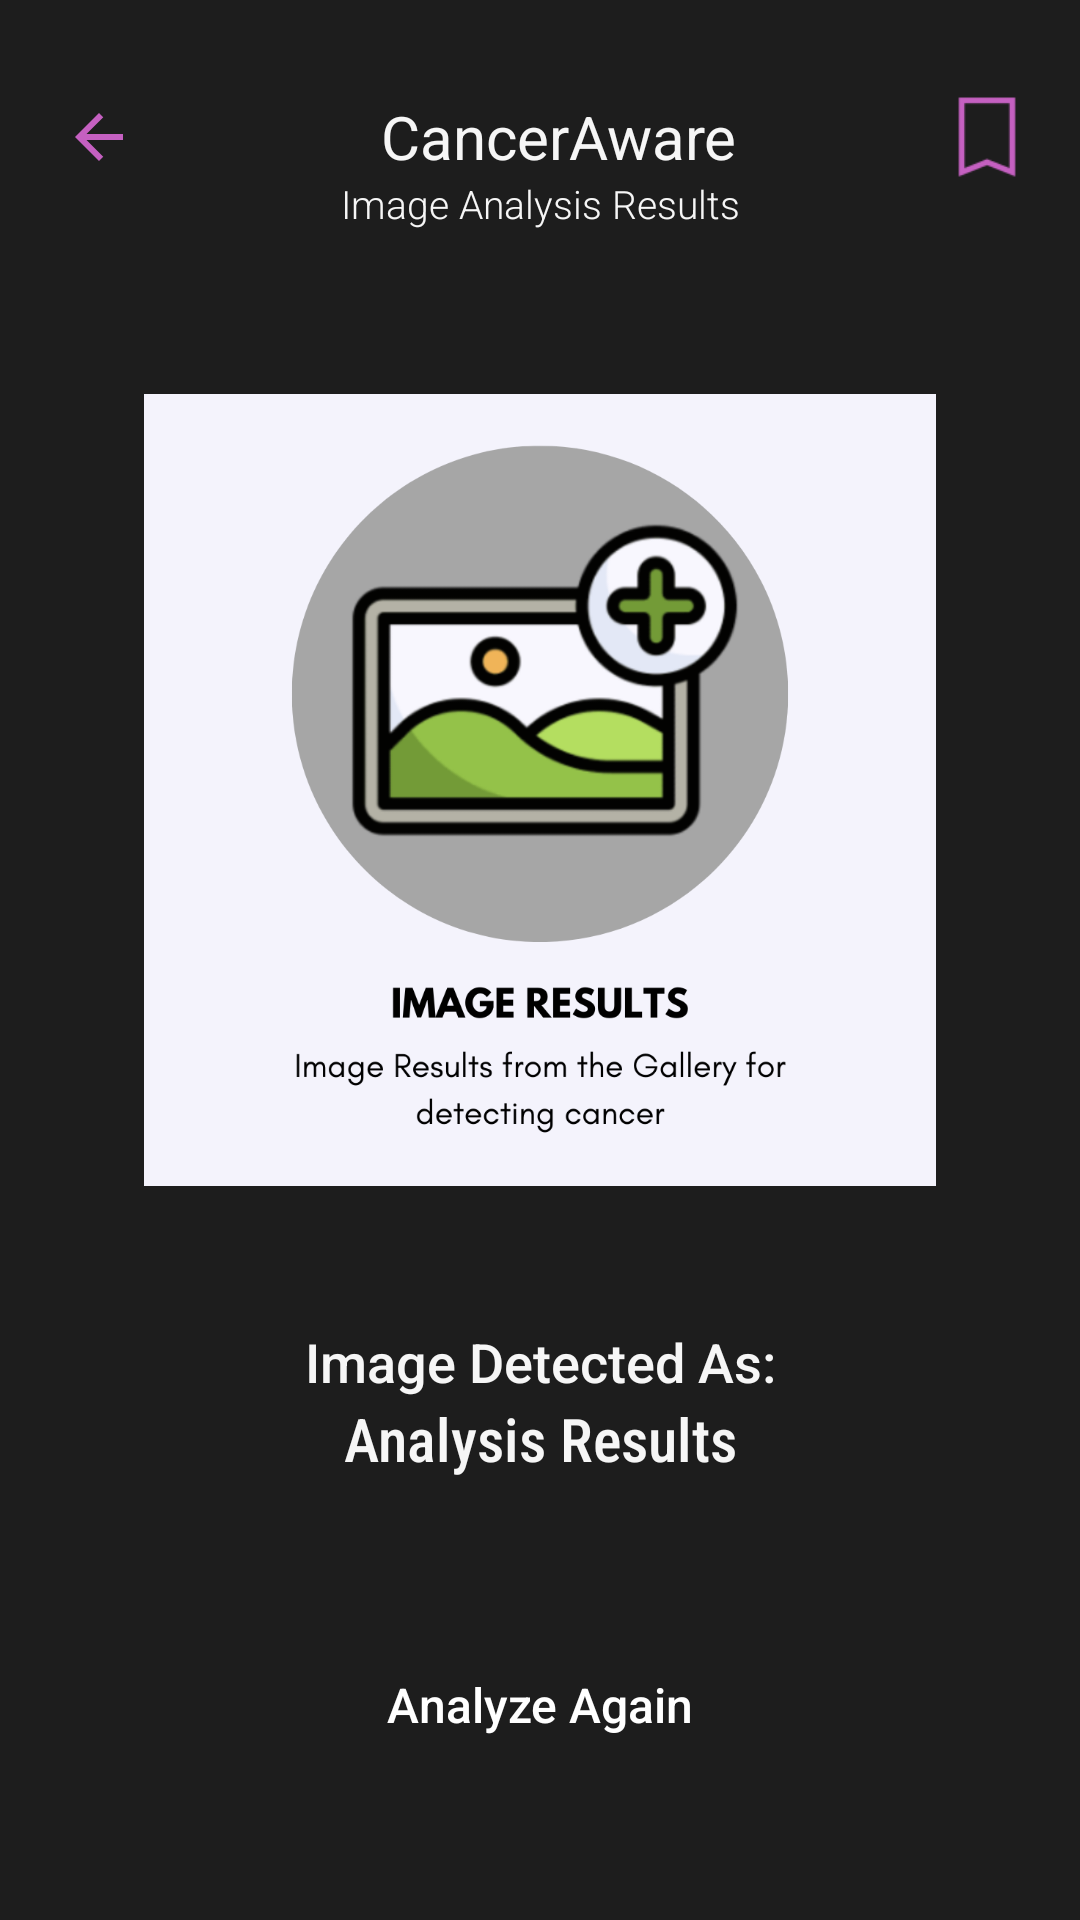

Locate icon controls on the screen. Image size 1080×1920, boxes as region(x1, y1, x2, y2).
Back: region(75, 113, 123, 161)
